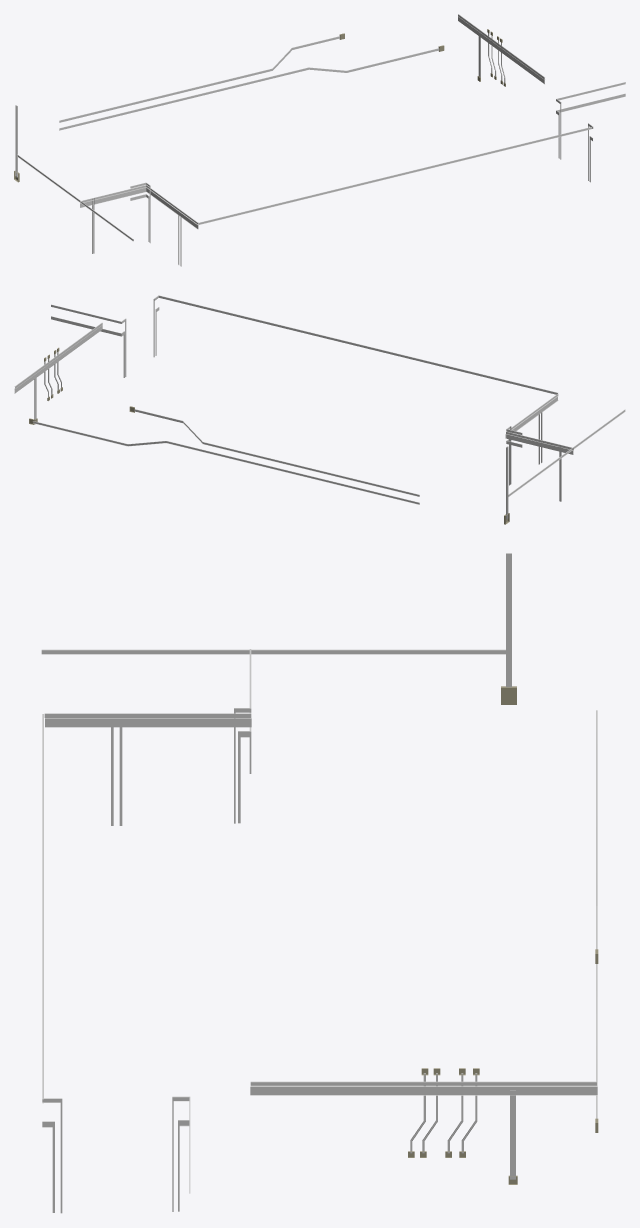
The model's file is shiyanlou_A01_qiangmian.fbx.
3 views of the same model, one above another, from view 1: azimuth 30°, elevation 25°; view 2: azimuth 150°, elevation 25°; view 3: azimuth 270°, elevation 25° (orthographic). The views are drawn at different scales.
Visible parts, largest first — view 1: shiyanlou_A01_qiangmian; view 2: shiyanlou_A01_qiangmian; view 3: shiyanlou_A01_qiangmian.
Boxes of the visible parts, x1,y1,x2,y2 form: shiyanlou_A01_qiangmian: (14, 14, 625, 266); shiyanlou_A01_qiangmian: (14, 295, 625, 524); shiyanlou_A01_qiangmian: (41, 553, 598, 1213).
Bounding box in the file's own units: 2574 × 490 × 1169.
